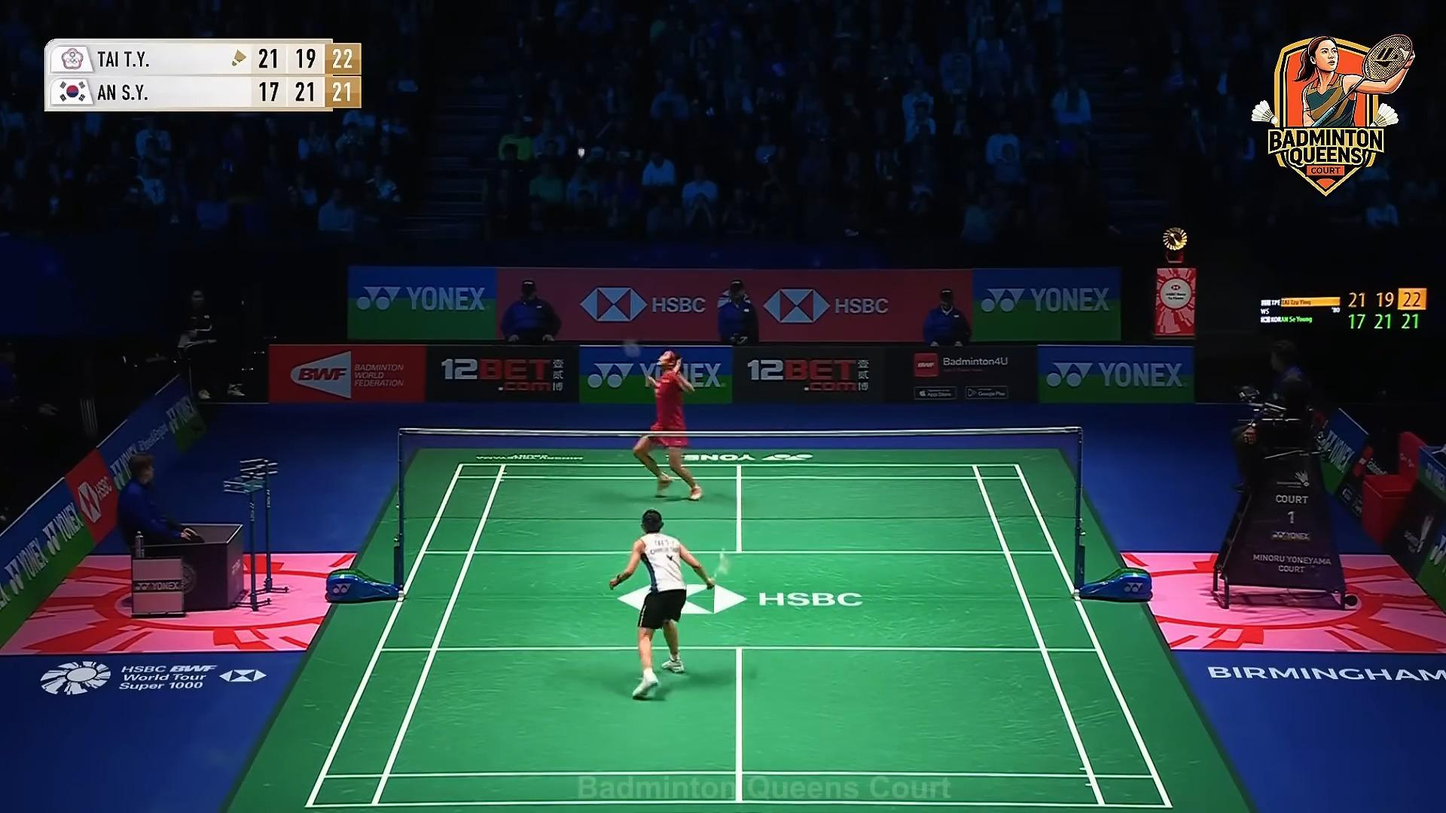shuttlecock: (577, 146, 585, 159)
